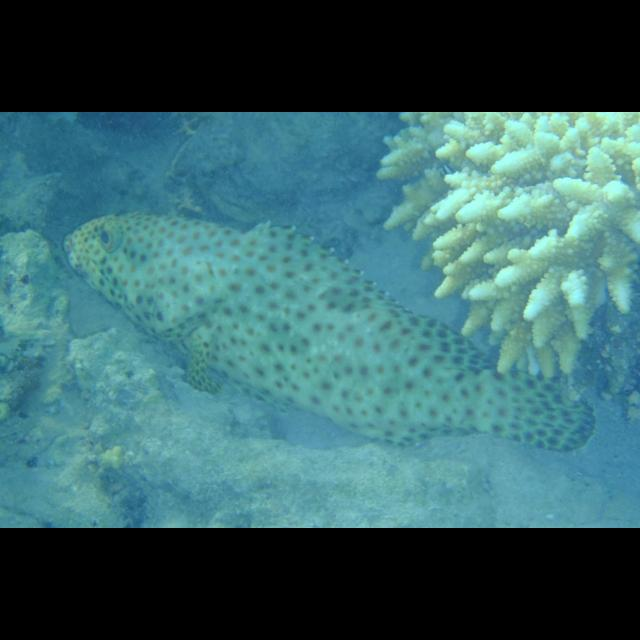Groupers: (60, 210, 596, 458)
